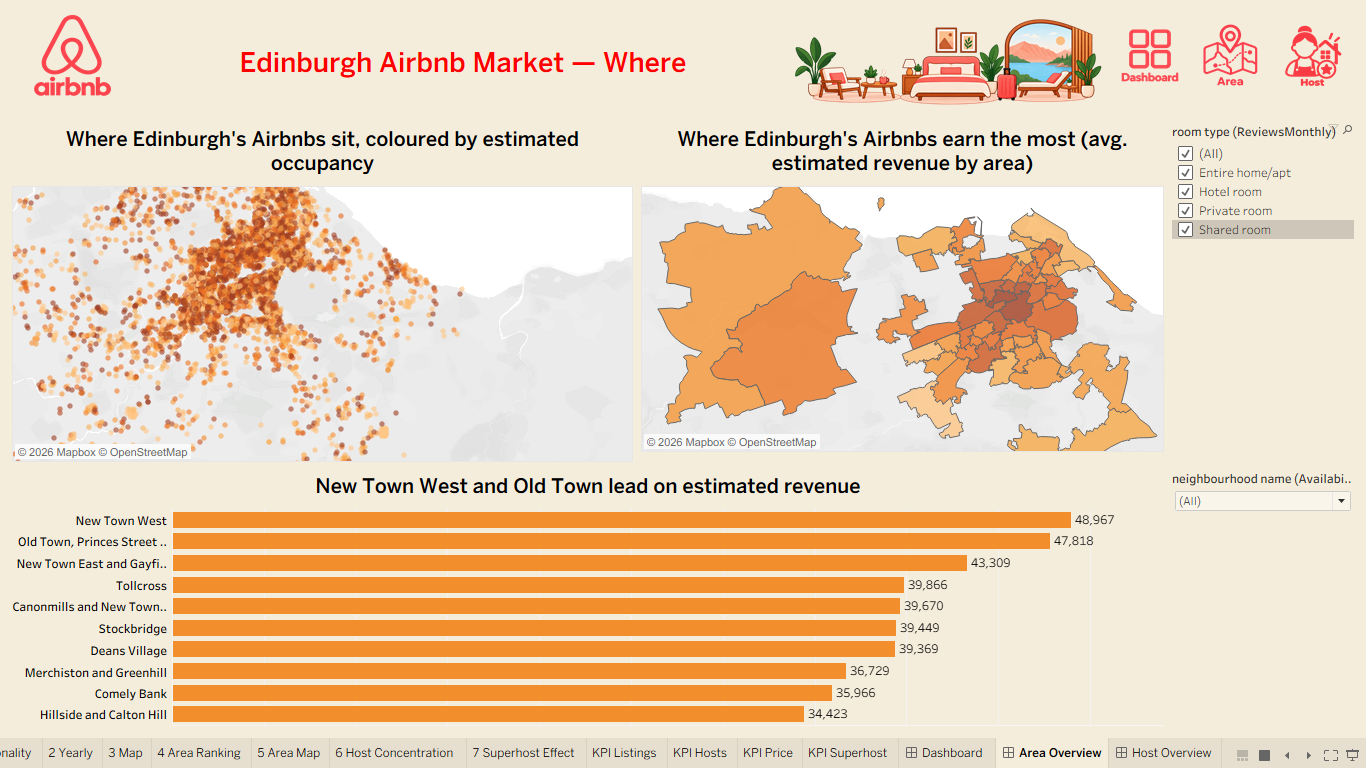

This screenshot's page, from the dashboard's own definition file:
{"tool":"tableau","page":{"name":"Area Overview","canvas":[1000,1000],"units":"permille","ordinal":0},"visuals":[{"type":"image","param":"Image/airbnb_transs.png","box":[5.9,10.8,94.5,149.8]},{"type":"text","box":[100.4,10.8,477.2,149.8]},{"type":"image","param":"Image/cover.png","box":[577.6,10.8,416.6,149.8]},{"type":"dashboard-object","box":[811.3,15.4,60.6,113]},{"type":"dashboard-object","box":[868.4,20.6,64.1,106.2]},{"type":"dashboard-object","box":[929.9,24,61.5,97.6]},{"type":"worksheet","title":"3 Map","mark":"Circle","rows":["latitude"],"cols":["longitude"],"box":[5.9,160.6,460.7,470.3]},{"type":"worksheet","title":"5 Area Map","mark":"Automatic","box":[466.6,160.6,388.7,470.3]},{"type":"filter","title":"3 Map","param":"[federated.02z5b560t1qu2o17z52n81a1xp0l].[none:room_type (ReviewsMonthly):nk]","box":[855.2,160.6,138.9,470.3]},{"type":"worksheet","title":"4 Area Ranking","mark":"Automatic","rows":["neighbourhood_name (ReviewsMonthly)"],"cols":["est_revenue_gbp_365"],"box":[5.9,630.9,849.4,358.3]},{"type":"filter","title":"3 Map","param":"[federated.02z5b560t1qu2o17z52n81a1xp0l].[none:neighbourhood_name (AvailabilityM","box":[855.2,630.9,138.9,358.3]}]}

Visuals, with their boxes on the dashboard's canvas, which has no fixed pixel size, in thousandths of its width and height (x1, y1, x2, y2). These are canvas units, not pixel positions in the 1366x768 screenshot, which may show the page scaled, cropped or inside an application window:
image: [6, 11, 100, 161]
text: [100, 11, 578, 161]
image: [578, 11, 994, 161]
dashboard-object: [811, 15, 872, 128]
dashboard-object: [868, 21, 932, 127]
dashboard-object: [930, 24, 991, 122]
"3 Map" worksheet (Circle marks): [6, 161, 467, 631]
"5 Area Map" worksheet: [467, 161, 855, 631]
"3 Map" filter: [855, 161, 994, 631]
"4 Area Ranking" worksheet: [6, 631, 855, 989]
"3 Map" filter: [855, 631, 994, 989]
